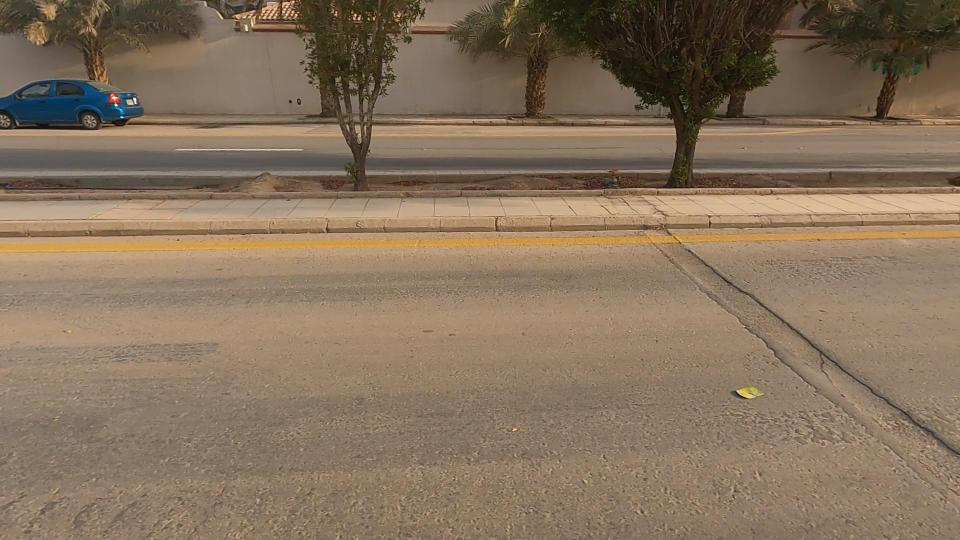GARBAGE: (700, 345, 788, 439)
